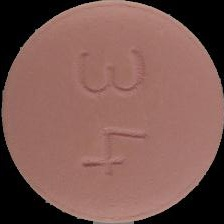65862-357: (0, 0, 224, 224)
